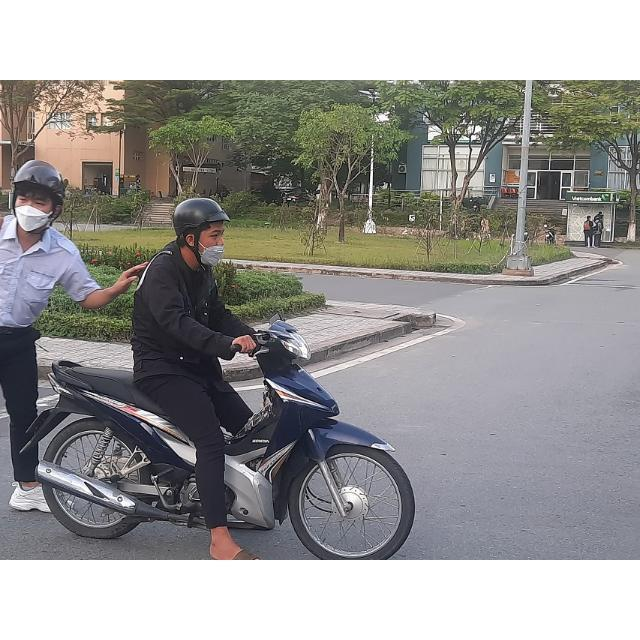Helmet: (172, 197, 232, 263), (13, 160, 65, 232)
